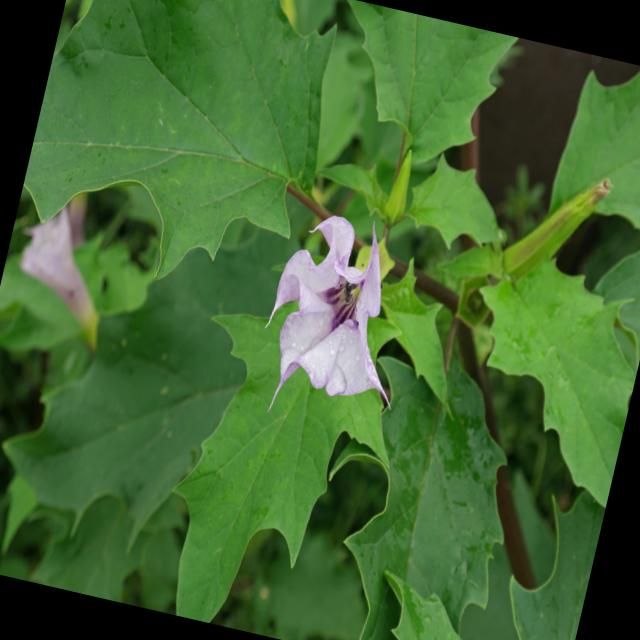Poisonous-Datura_Stramonium: (299, 20, 640, 640), (0, 0, 458, 441), (222, 173, 442, 477)
